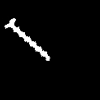half_double_crochet: (5, 18, 49, 60)
